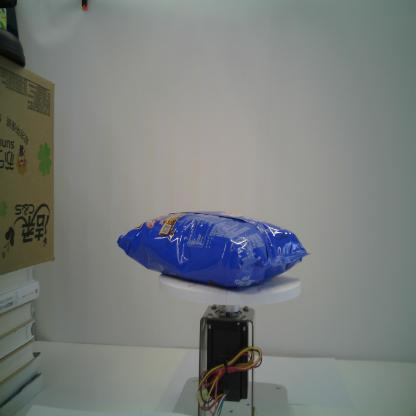Puffed Food: (116, 209, 312, 292)
